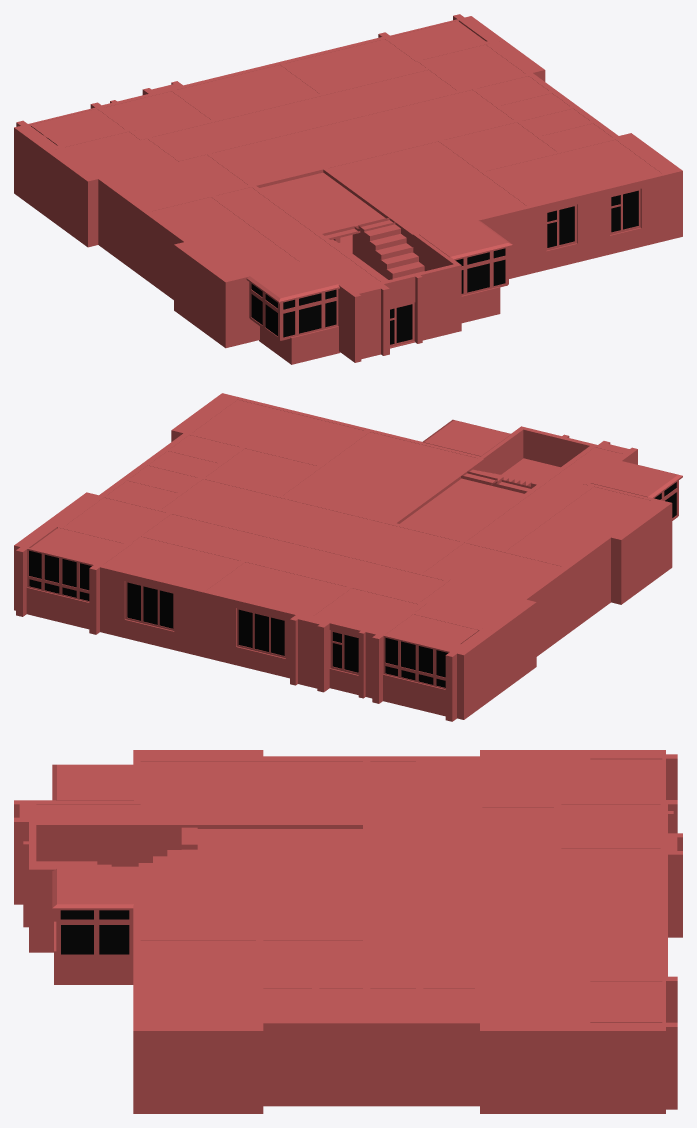
Rendered from SM_house_section_17.fbx.
3 views of the same model, one above another, from view 1: azimuth 30°, elevation 25°; view 2: azimuth 150°, elevation 25°; view 3: azimuth 270°, elevation 25° (orthographic). The views are drawn at different scales.
Visible parts, largest first — view 1: Symmetry_2; view 2: Symmetry_2; view 3: Symmetry_2.
Boxes of the visible parts, left/top/right/bottom form: Symmetry_2: left=14, top=14, right=682, bottom=364; Symmetry_2: left=14, top=393, right=682, bottom=721; Symmetry_2: left=14, top=750, right=682, bottom=1113.
Size of the model in its own units: 1815 by 259 by 1827.
